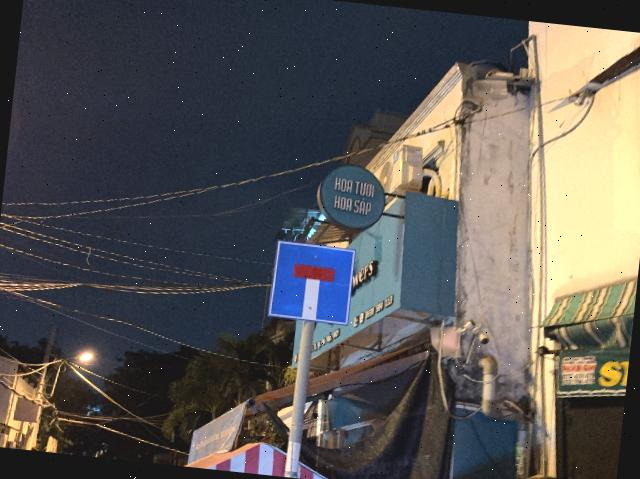duong-cut: (268, 240, 356, 326)
